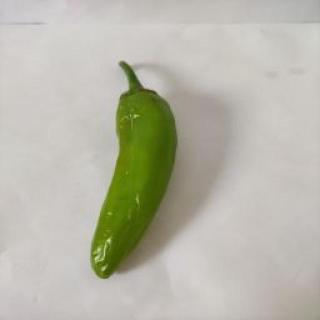Cabai Hijau: (88, 59, 181, 286)
